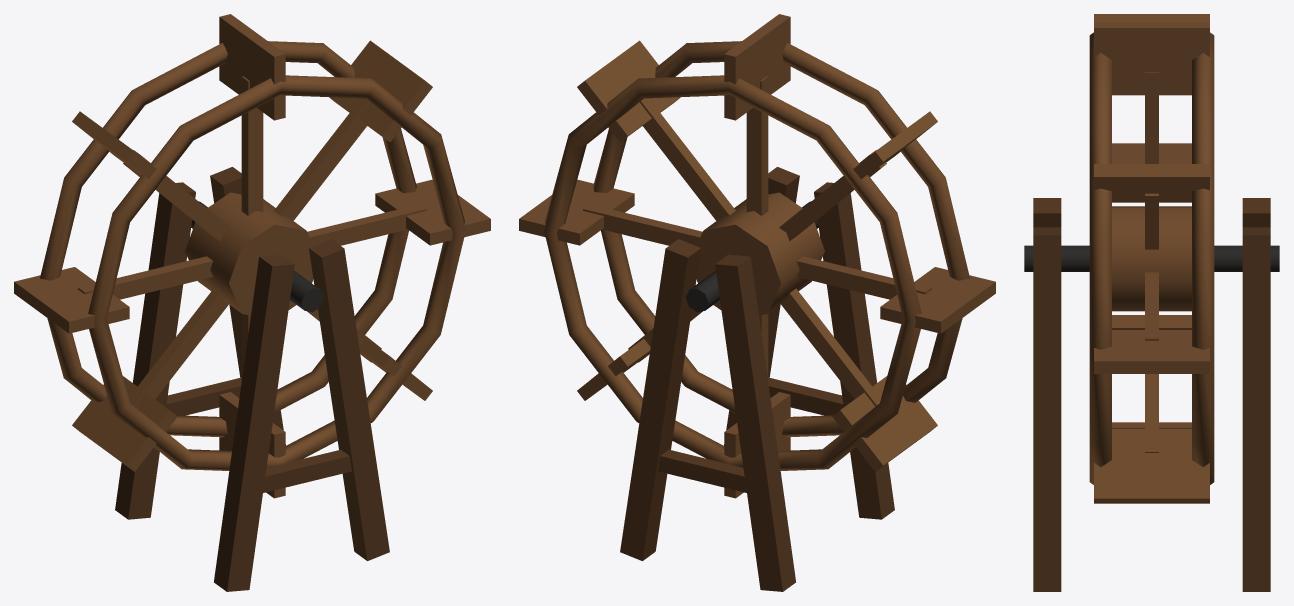
Rendered from waterwheel_garden.glb.
3 views of the same model, side by side, from view 1: azimuth 30°, elevation 25°; view 2: azimuth 150°, elevation 25°; view 3: azimuth 270°, elevation 25° (orthographic). The views are drawn at different scales.
Visible parts, largest first — view 1: SpinningWheel, GardenWaterwheel; view 2: SpinningWheel, GardenWaterwheel; view 3: SpinningWheel, GardenWaterwheel.
Boxes of the visible parts, x1,y1,x2,y2 form: SpinningWheel: [14, 14, 490, 498]; GardenWaterwheel: [115, 167, 389, 591]; SpinningWheel: [519, 14, 995, 498]; GardenWaterwheel: [620, 167, 894, 591]; SpinningWheel: [1089, 14, 1214, 503]; GardenWaterwheel: [1024, 198, 1279, 591].
Size of the model in its own units: 2.22 by 2.51 by 1.1.
